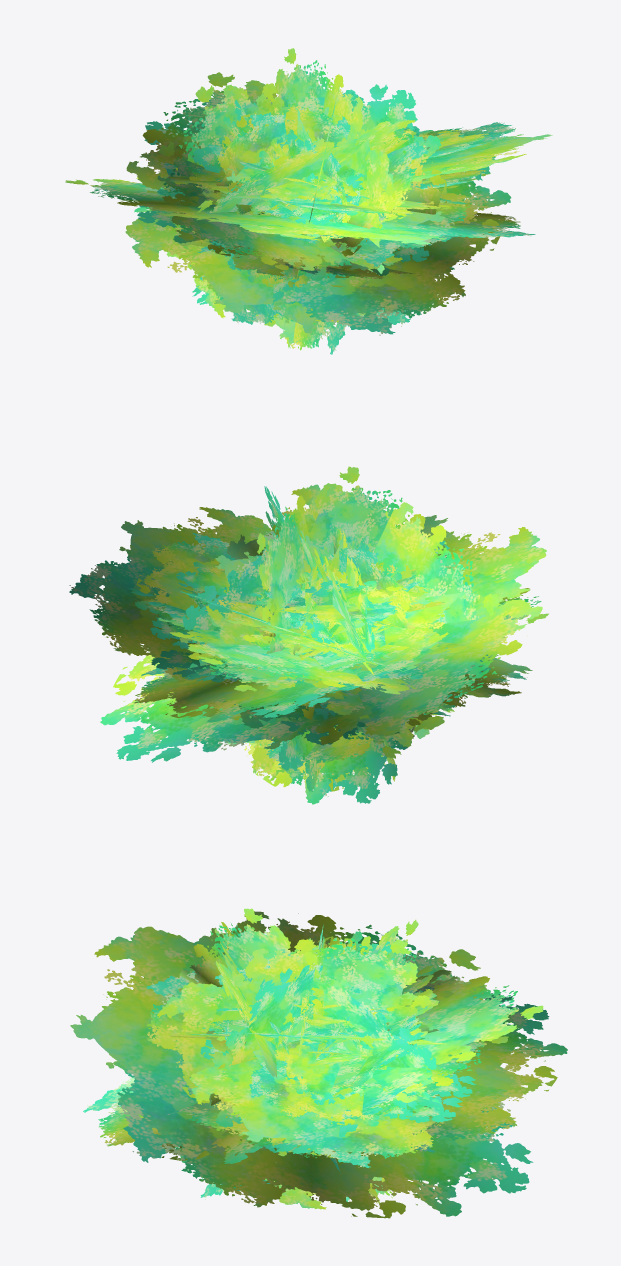
Rendered from Lichen.fbx.
3 views of the same model, one above another, from view 1: azimuth 30°, elevation 25°; view 2: azimuth 150°, elevation 25°; view 3: azimuth 270°, elevation 25° (orthographic). The views are drawn at different scales.
Parts seen in each view (by area): view 1: Plane.010; view 2: Plane.010; view 3: Plane.010.
Boxes of the visible parts, <box> form: Plane.010: <box>65,48,552,354</box>; Plane.010: <box>69,466,548,804</box>; Plane.010: <box>70,908,567,1218</box>.
Bounding box in the file's own units: 3.6 × 2.38 × 3.38.
